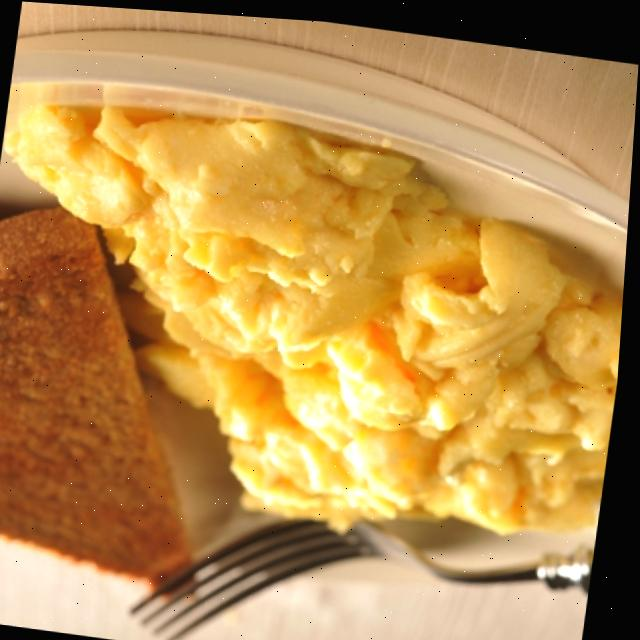鸡蛋料理: (0, 39, 638, 590)
